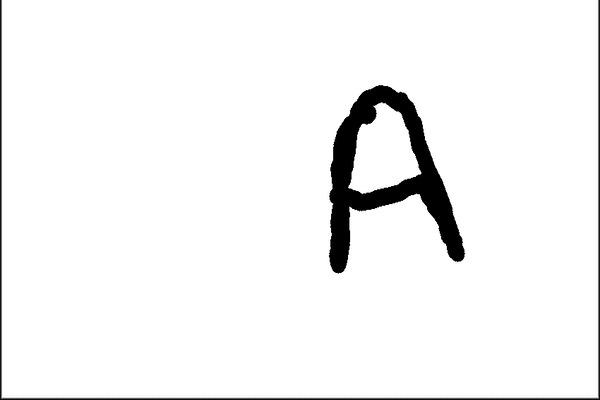A: (310, 76, 473, 279)
